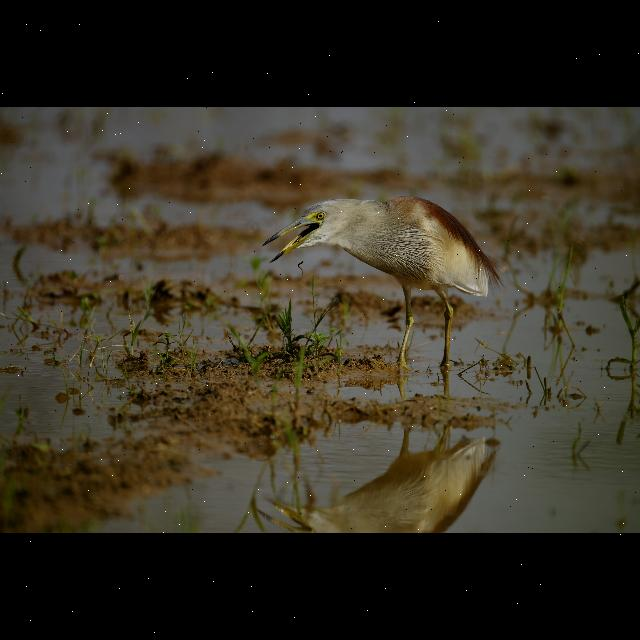heron: (256, 200, 507, 388)
